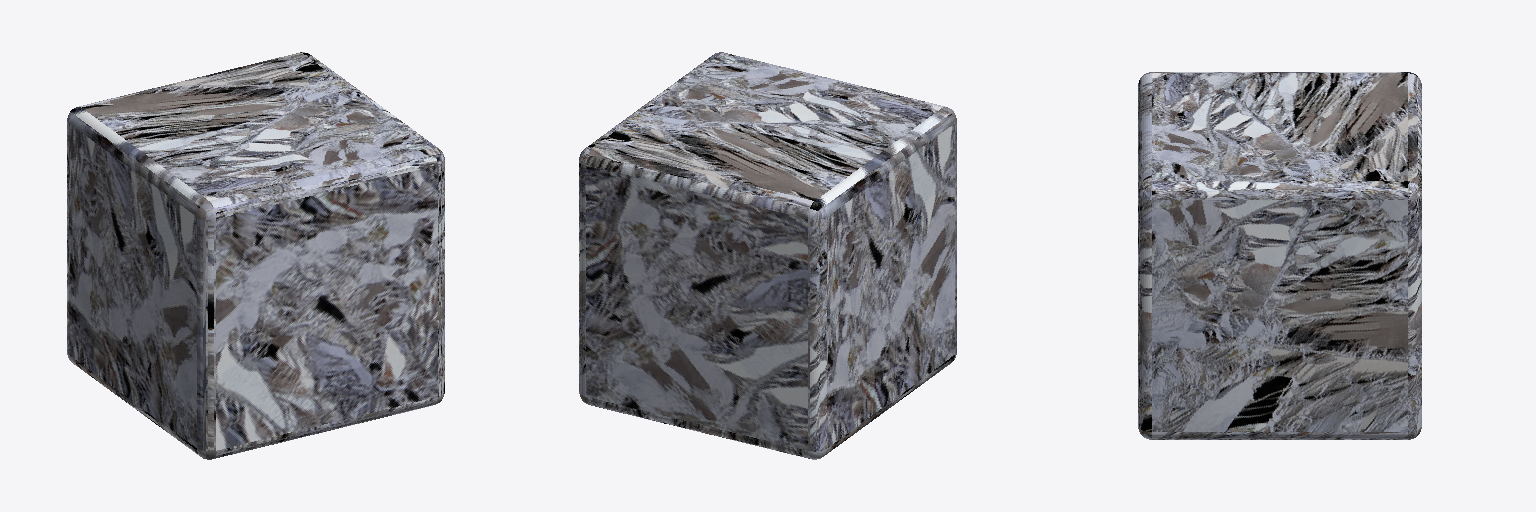
3 views of the same model, side by side, from view 1: azimuth 30°, elevation 25°; view 2: azimuth 150°, elevation 25°; view 3: azimuth 270°, elevation 25° (orthographic).
Visible parts, largest first — view 1: Cube; view 2: Cube; view 3: Cube.
Part boxes in pixels (x1,y1,x2,y2): Cube: (67, 52, 444, 459); Cube: (579, 52, 956, 459); Cube: (1138, 72, 1421, 439).
Size of the model in its own units: 2 by 2 by 2.
Materials: 1 (1 with a texture image).